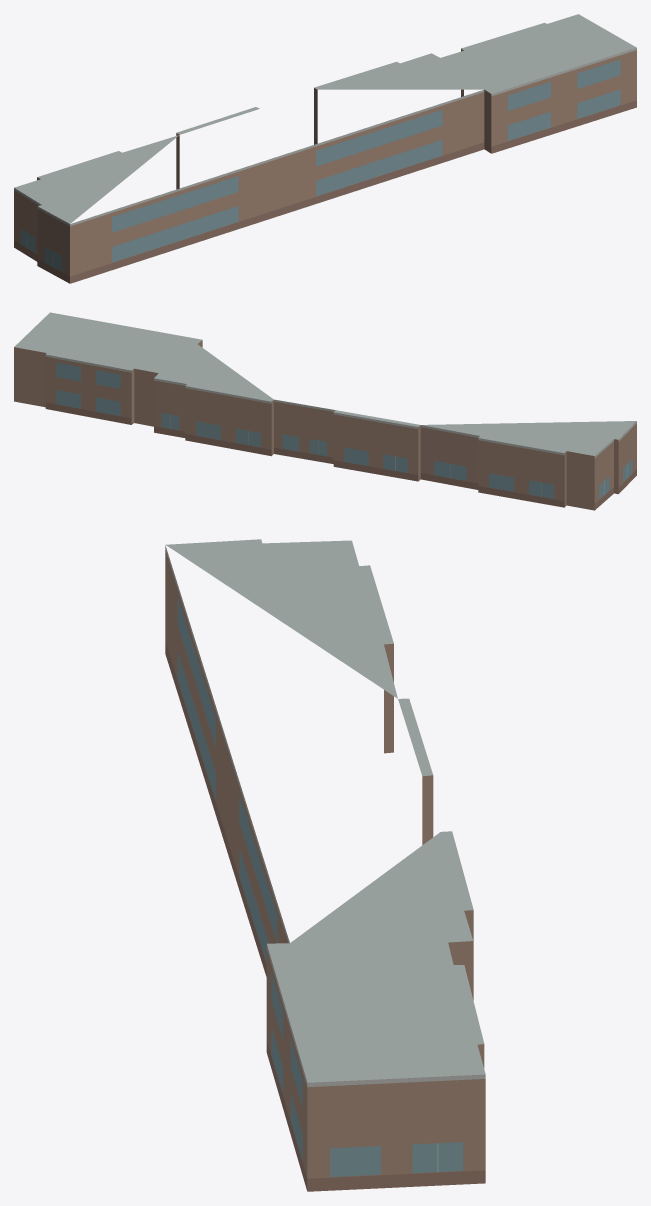
The model's file is survey-upis-32547174.glb.
3 views of the same model, one above another, from view 1: azimuth 30°, elevation 25°; view 2: azimuth 150°, elevation 25°; view 3: azimuth 270°, elevation 25° (orthographic). The views are drawn at different scales.
Visible parts, largest first — view 1: survey-upis-32547174.tmp; view 2: survey-upis-32547174.tmp; view 3: survey-upis-32547174.tmp.
Part boxes in pixels (<box>): survey-upis-32547174.tmp: <box>14,14,636,283</box>; survey-upis-32547174.tmp: <box>14,312,636,510</box>; survey-upis-32547174.tmp: <box>165,539,485,1191</box>.
Bounding box in the file's own units: 65.33 × 6.1 × 16.28.
